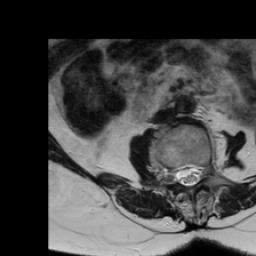CCS_normal: (183, 159, 194, 191)
LFS_normal: (203, 157, 210, 186)
LLS_normal: (194, 160, 202, 185)
RFS_normal: (164, 161, 174, 187)
RLS_normal: (174, 161, 182, 189)
